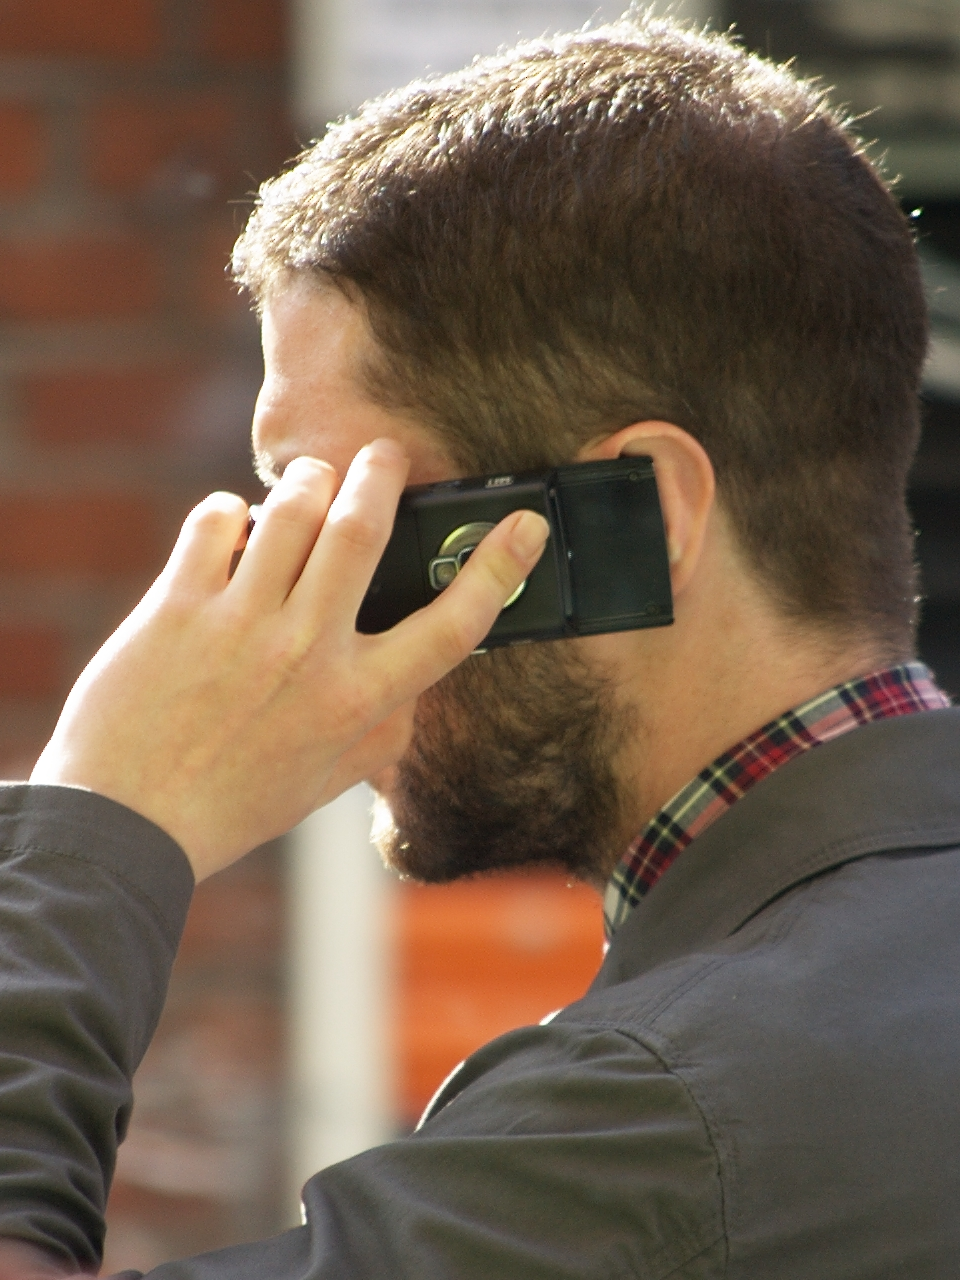phone: (210, 456, 673, 651)
